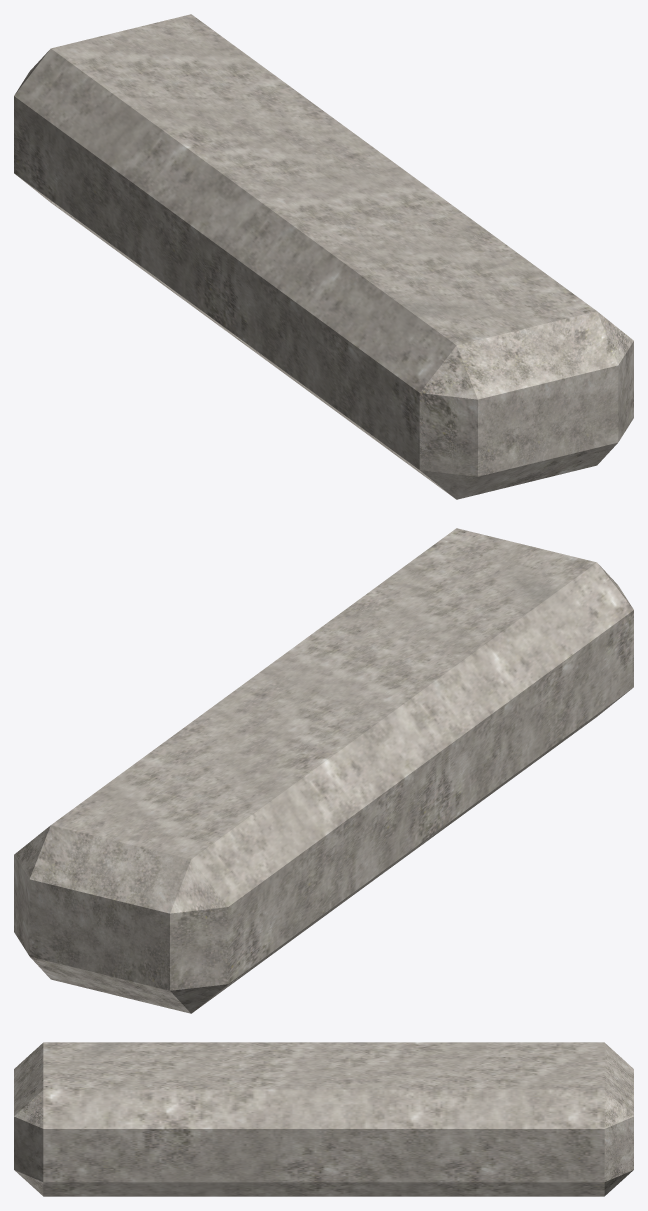
File: step_movement10.fbx
3 renders of one model, top to bottom at view 1: azimuth 30°, elevation 25°; view 2: azimuth 150°, elevation 25°; view 3: azimuth 270°, elevation 25°, orthographic. The views are drawn at different scales.
Visible parts, largest first — view 1: pCube2; view 2: pCube2; view 3: pCube2.
Part boxes in pixels (x1,y1,x2,y2): pCube2: (14, 14, 633, 499); pCube2: (14, 528, 633, 1013); pCube2: (14, 1042, 633, 1196).
Size of the model in its own units: 1236 by 851 by 4480.
Materials: 1 (1 with a texture image).
